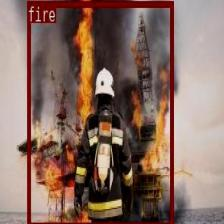fire: (26, 0, 173, 224)
